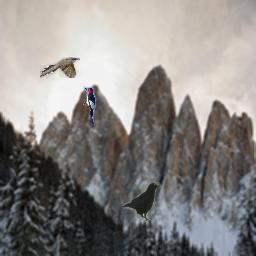Crow: (122, 181, 161, 221)
Cuckoo: (40, 57, 80, 78)
Woodpecker: (83, 85, 97, 125)
